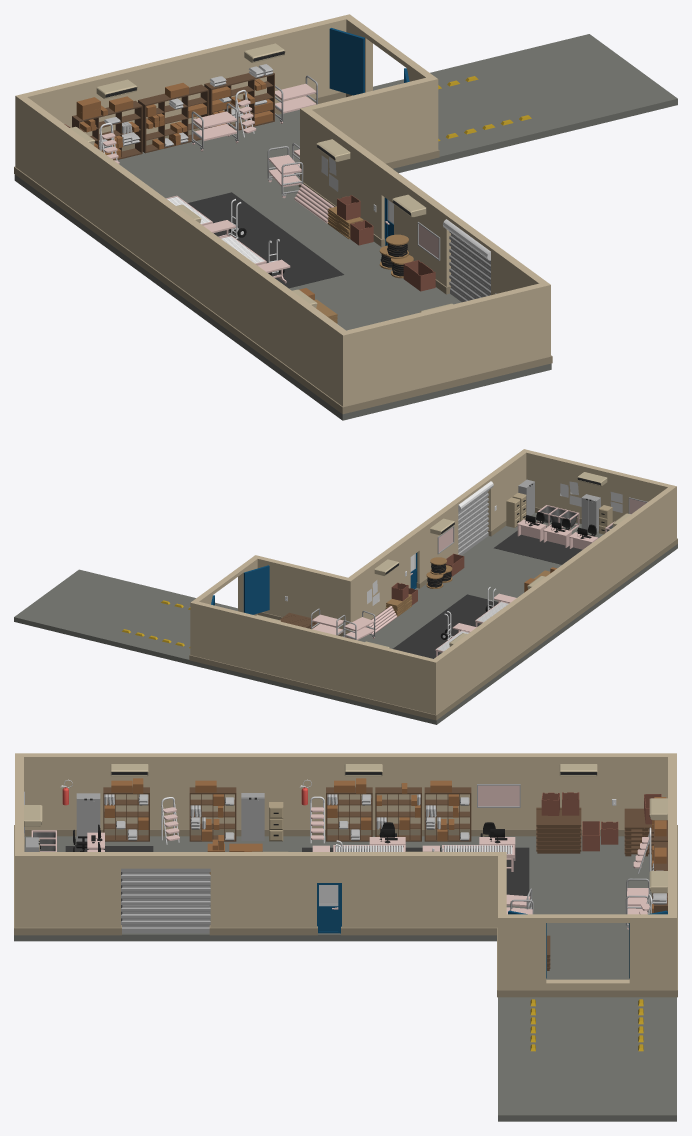
Rendered from Estrutura.fbx.
The picture shows the model from 3 angles, top to bottom: view 1: azimuth 30°, elevation 25°; view 2: azimuth 150°, elevation 25°; view 3: azimuth 270°, elevation 25°; orthographic projection. The views are drawn at different scales.
Visible parts, largest first — view 1: Cubo.051, Plano.015, Cubo.052, Plano.001, Cubo.009, Plano.014, Cubo.008, Cubo.014, Cubo.234, Cubo.015, Cubo.013, Cubo.044 (+10 smaller); view 2: Cubo.009, Cubo.051, Plano.015, Plano.001, Cubo.052, Cubo.008, Cubo.014, Cubo.234, Cubo.013, Cubo.015, Plano.014, Cubo.010 (+9 smaller); view 3: Cubo.051, Plano.015, Cubo.014, Plano.014, Cubo.021, Cubo.015, Cubo.013, Plano.001, Cubo.050, Cubo.009, Cubo.110, Cubo.047 (+19 smaller).
Part boxes in pixels (box(x1,y1,x2,y2)): Cubo.051: box(19, 97, 351, 414); Plano.015: box(373, 34, 677, 163); Cubo.052: box(346, 283, 544, 412); Plano.001: box(103, 192, 551, 420); Cubo.009: box(14, 14, 353, 177); Plano.014: box(14, 109, 438, 244); Cubo.008: box(298, 76, 439, 187); Cubo.014: box(304, 110, 388, 246); Cubo.234: box(187, 192, 343, 288); Cubo.015: box(394, 175, 453, 294); Cubo.013: box(491, 246, 552, 364); Cubo.044: box(329, 28, 364, 95); Cubo.009: box(189, 600, 440, 720); Cubo.051: box(434, 485, 677, 717); Plano.015: box(14, 569, 237, 664); Plano.001: box(361, 512, 677, 676); Cubo.052: box(526, 450, 670, 523); Cubo.008: box(252, 555, 353, 637); Cubo.014: box(348, 536, 410, 620); Cubo.234: box(393, 594, 498, 658); Cubo.013: box(486, 449, 528, 536); Cubo.015: box(414, 501, 458, 588); Plano.014: box(190, 638, 501, 724); Cubo.010: box(494, 530, 582, 564); Cubo.051: box(14, 753, 667, 836); Plano.015: box(498, 997, 676, 1121); Cubo.014: box(341, 852, 497, 935); Plano.014: box(505, 836, 651, 979); Cubo.021: box(505, 914, 667, 997); Cubo.015: box(209, 852, 317, 935); Cubo.013: box(14, 852, 121, 935); Plano.001: box(14, 836, 496, 941); Cubo.050: box(121, 868, 210, 933); Cubo.009: box(667, 753, 677, 997); Cubo.110: box(536, 807, 581, 853); Cubo.047: box(121, 852, 210, 868).
Bounding box in the file's own units: 7697 × 1082 × 7623.
